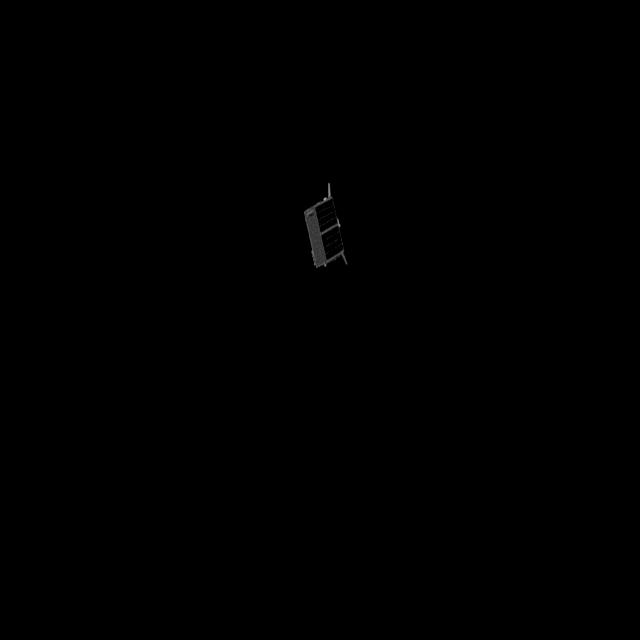satellite: (294, 180, 354, 286)
